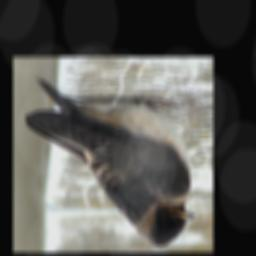Swallow: (24, 75, 196, 248)
